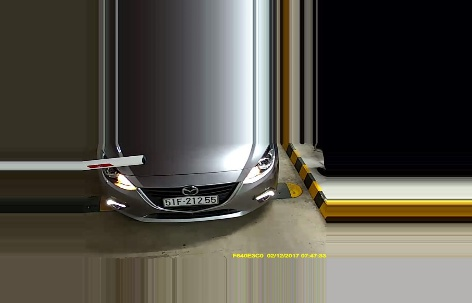plate: (162, 194, 219, 206)
